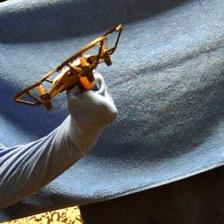drone: (13, 26, 124, 112)
